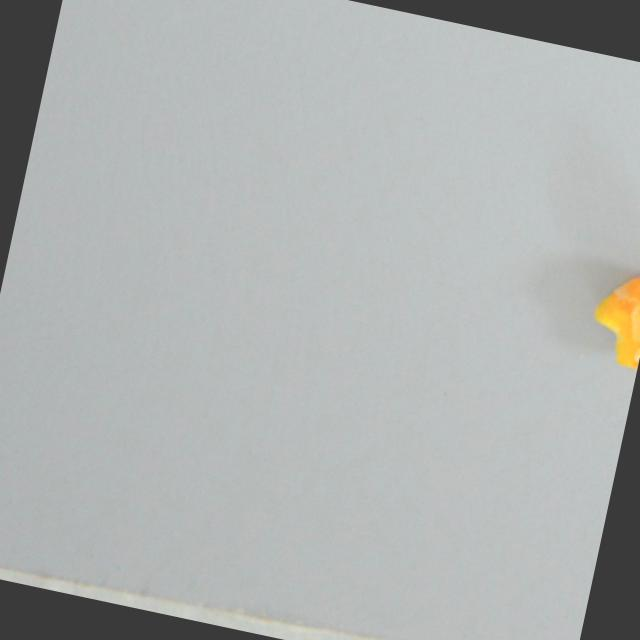pelicula: (581, 265, 640, 376)
